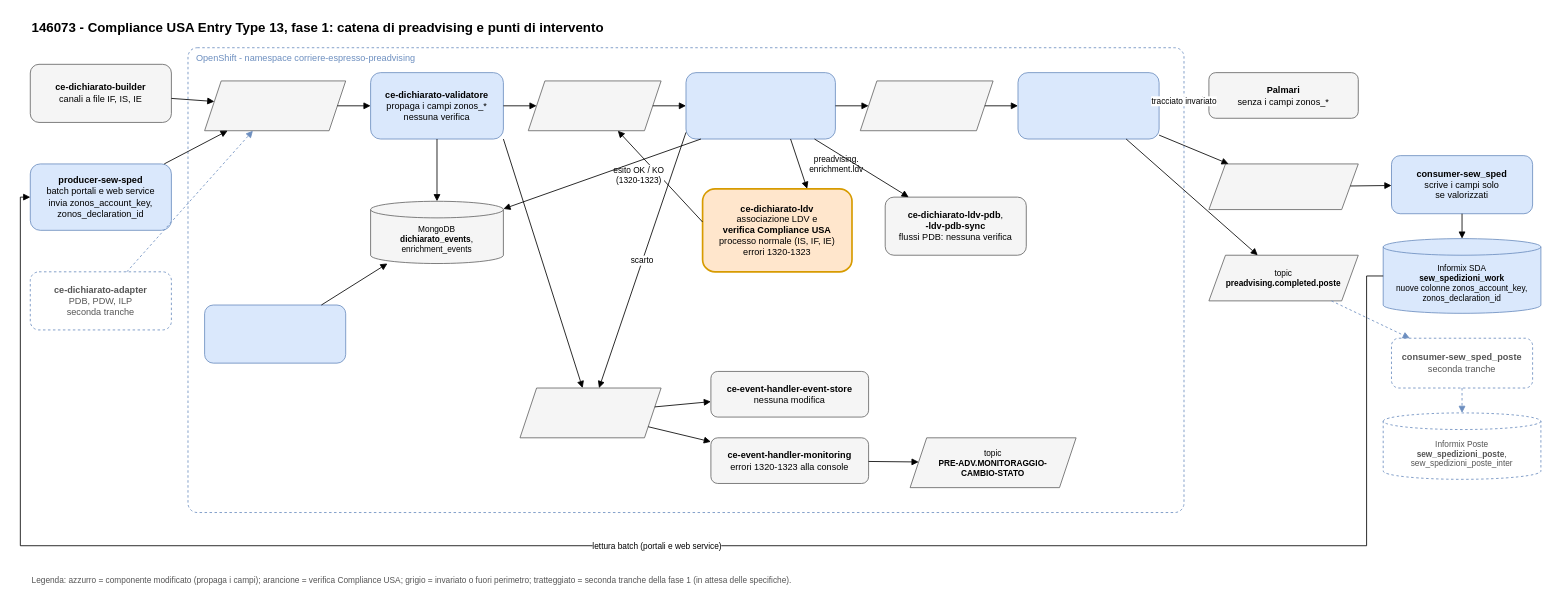
Image size: 1555x609. Some labels were removed from this diagram. The centre of each missing label's shape, as x and y in pixels:
ce-dichiarato-bff API di consultazione e risottomissione con i campi: pixel 275 333
ce-dichiarato-orchestratore propaga i campi, esclusi dal merge delle lavorazioni: pixel 760 105
ce-dichiarato-smistatore propaga i campi verso Poste e SDA: pixel 1088 105
topic preadvising.completed: pixel 926 105
topic preadvising.completed.sda: pixel 1283 186
topic preadvising.enrichment: pixel 594 105
topic preadvising.evensource: pixel 590 412
topic preadvising.pre-enrichment: pixel 275 105
